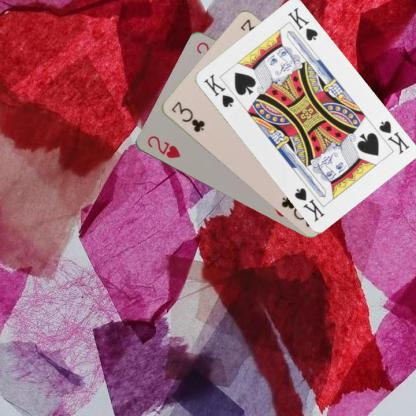2h: (144, 133, 182, 160)
3c: (168, 99, 206, 134)
Ks: (375, 118, 411, 155), (201, 71, 235, 109)
